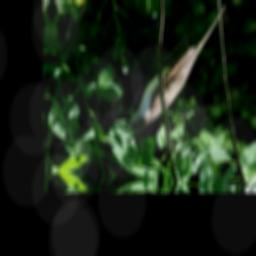Cuckoo: (124, 0, 227, 142)
